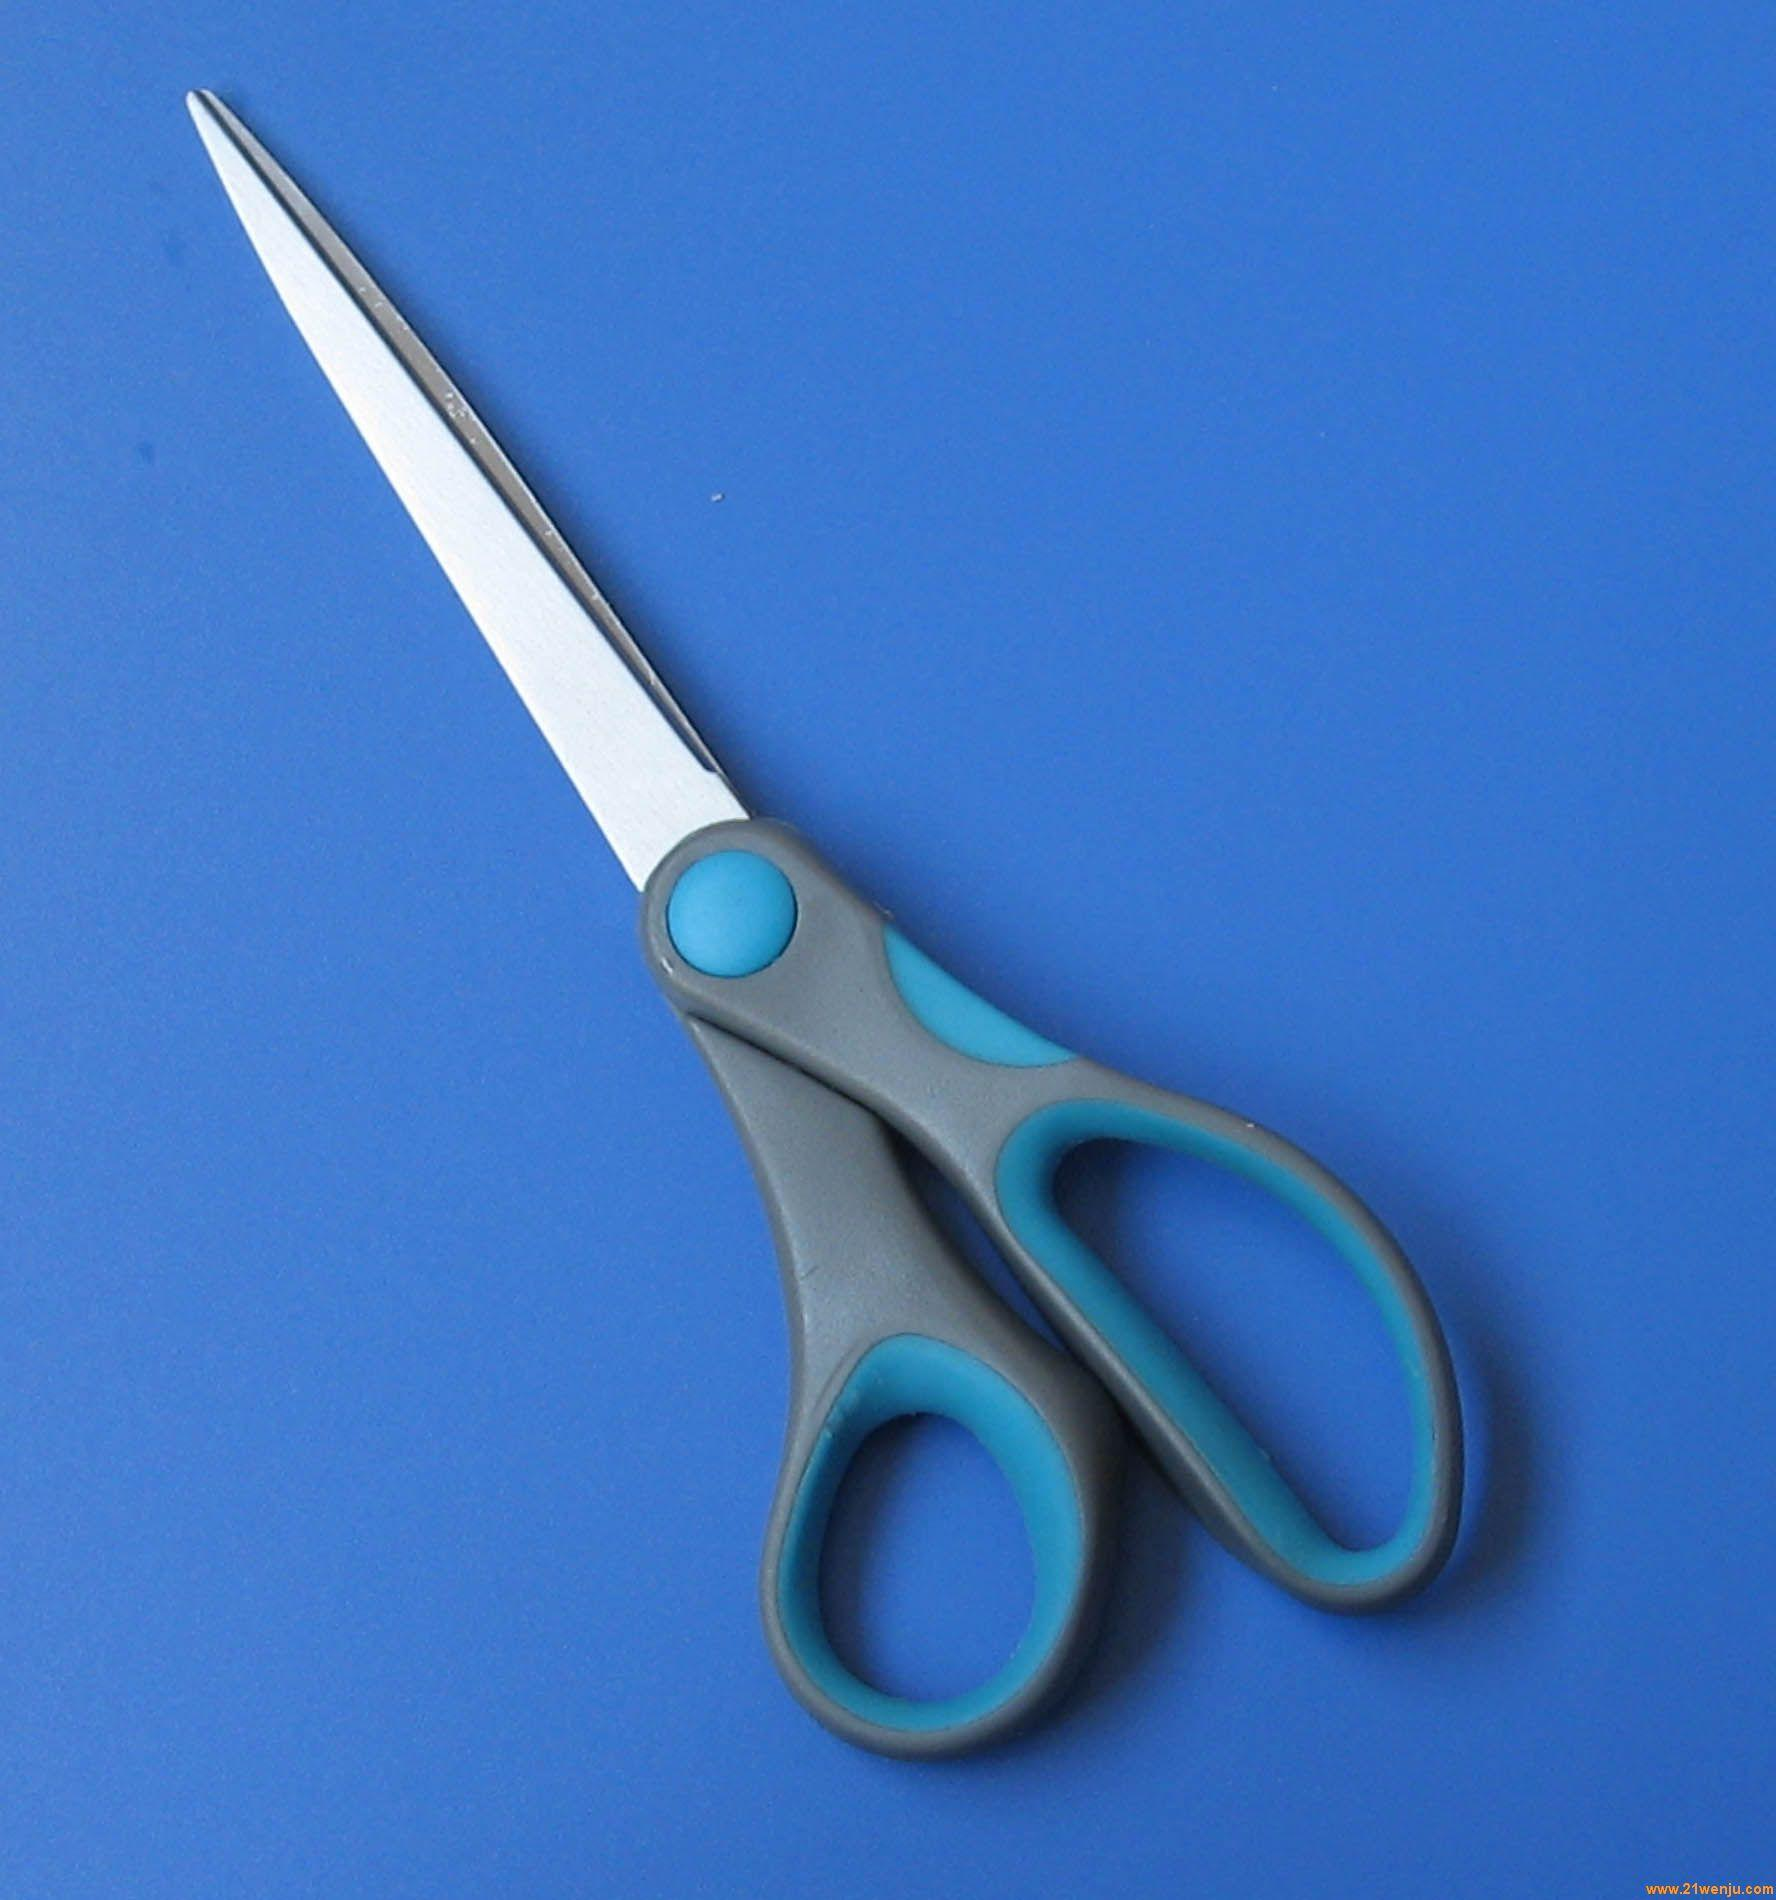scissor: (145, 67, 1517, 1825)
